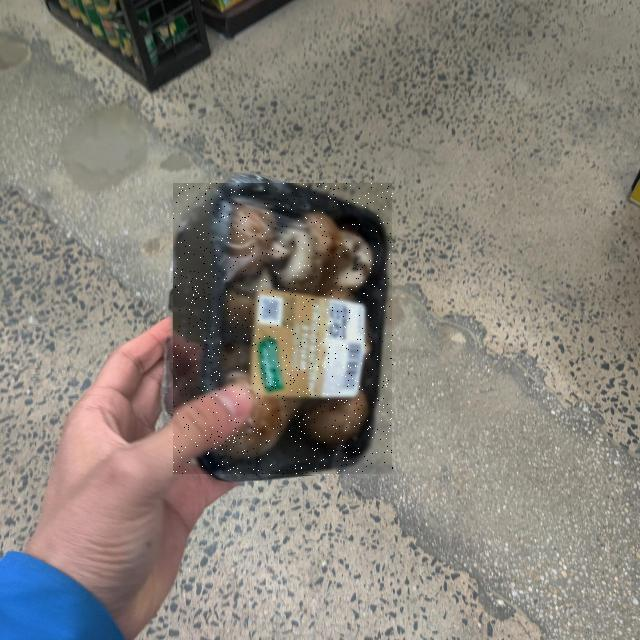mushroom: (0, 238, 371, 640)
